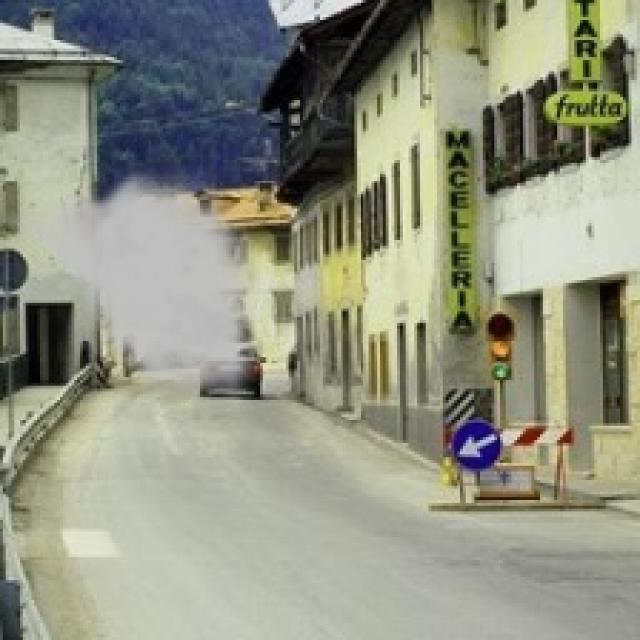smoke: (0, 163, 269, 414)
